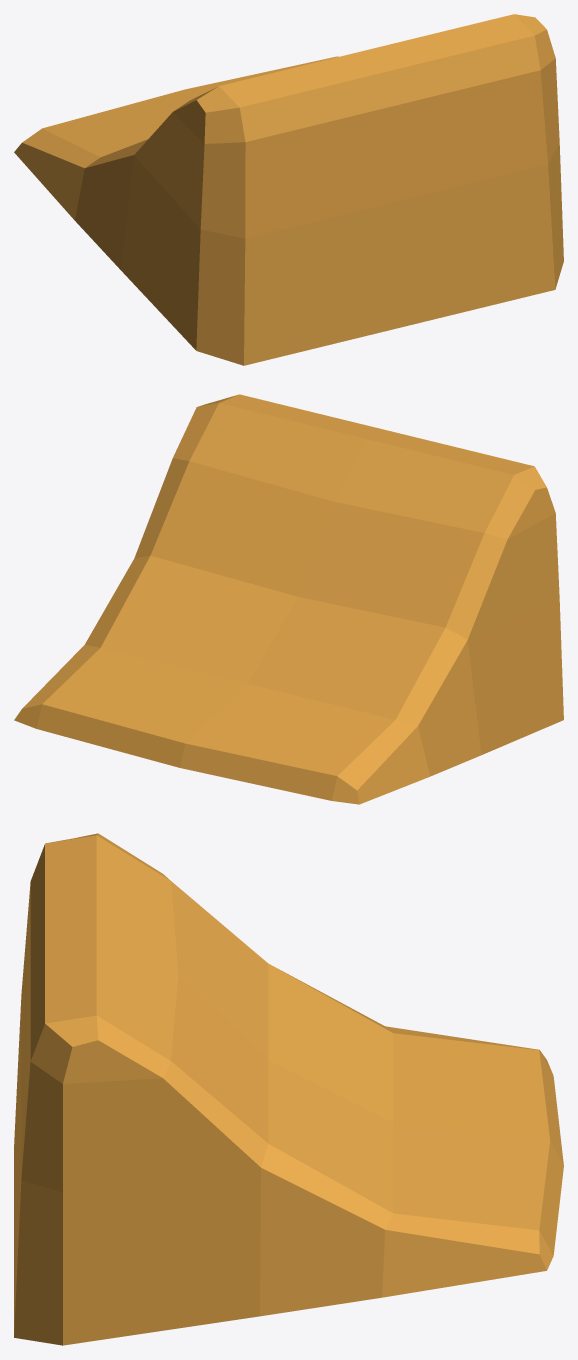
The model's file is sport-snow-jump.glb.
3 renders of one model, top to bottom at view 1: azimuth 30°, elevation 25°; view 2: azimuth 150°, elevation 25°; view 3: azimuth 270°, elevation 25°, orthographic. The views are drawn at different scales.
Visible parts, largest first — view 1: snow-jump; view 2: snow-jump; view 3: snow-jump.
Part boxes in pixels (box(x1,y1,x2,y2)): snow-jump: box(14, 14, 563, 365); snow-jump: box(14, 394, 563, 804); snow-jump: box(14, 833, 563, 1345).
Bounding box in the file's own units: 3.14 × 2.07 × 3.25.
